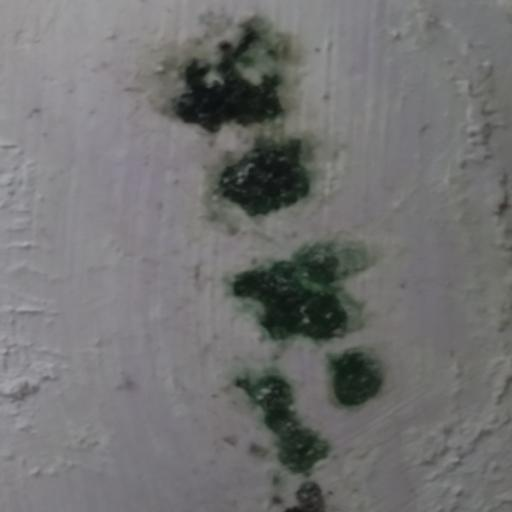algae: (148, 17, 397, 512)
